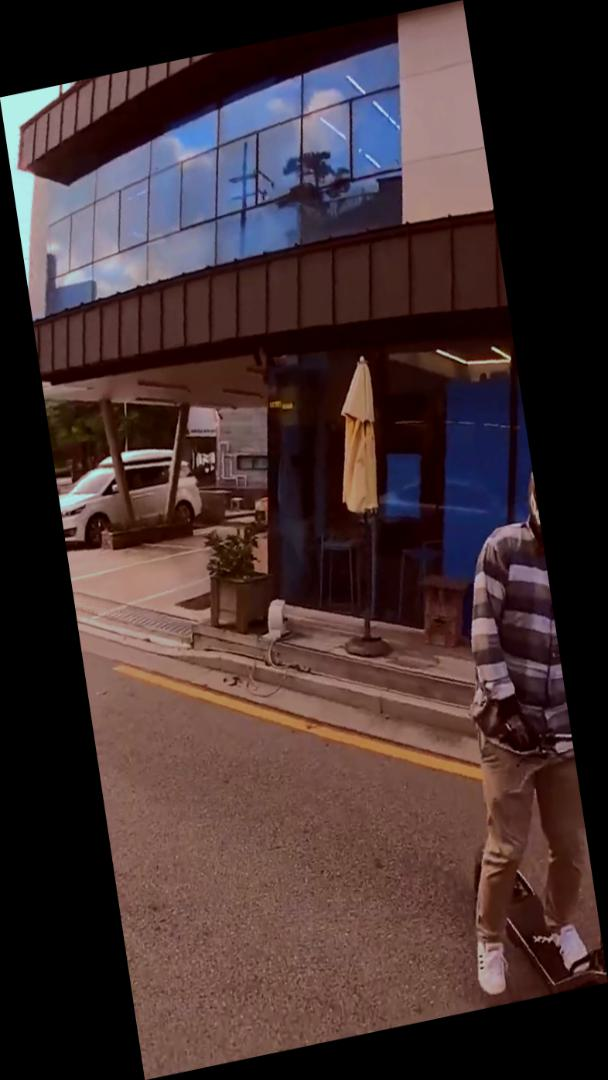helmet: (404, 464, 608, 1009)
